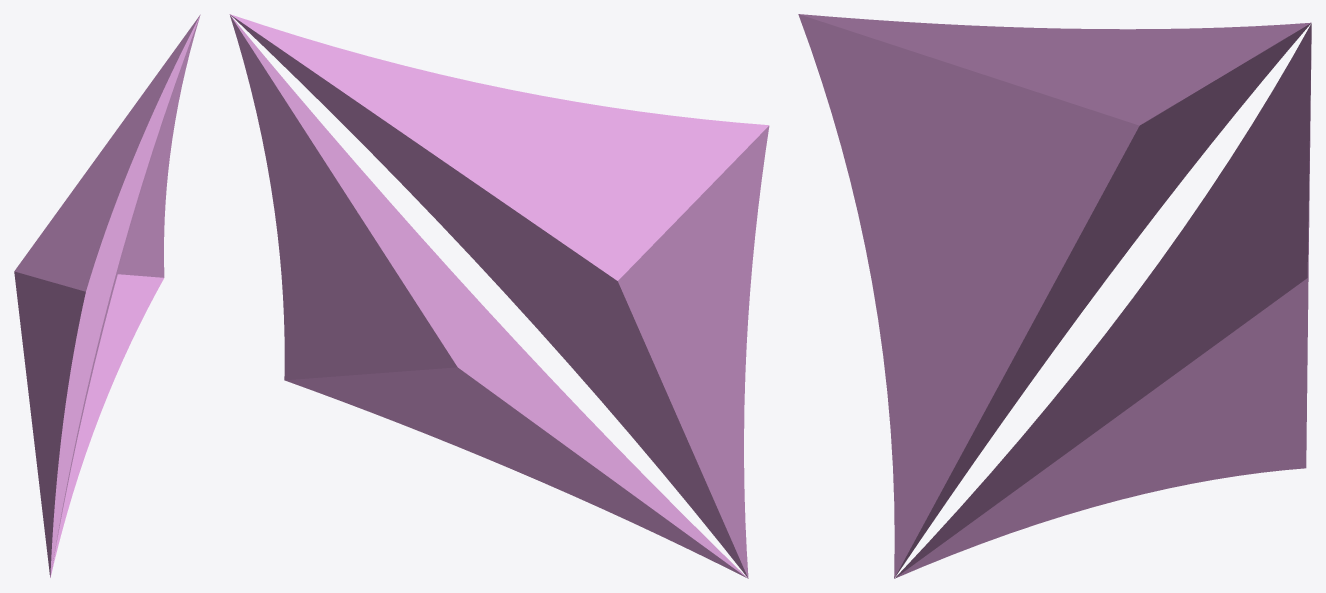
Rendered from TYPE7-2.glb.
3 views of the same model, side by side, from view 1: azimuth 30°, elevation 25°; view 2: azimuth 150°, elevation 25°; view 3: azimuth 270°, elevation 25° (orthographic). The views are drawn at different scales.
Parts seen in each view (by area): view 1: TYPE7-2 (×6); view 2: TYPE7-2 (×6); view 3: TYPE7-2 (×5).
Boxes of the visible parts, bbox=[...] form: TYPE7-2 (×6): bbox=[14, 15, 199, 577]; TYPE7-2 (×6): bbox=[230, 14, 769, 578]; TYPE7-2 (×5): bbox=[798, 14, 1311, 578].
Size of the model in its own units: 4.45 by 6.87 by 4.01.
